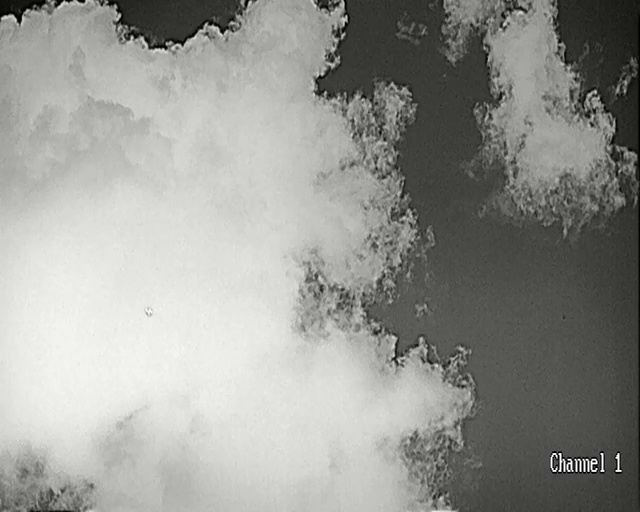uav: (145, 308, 152, 315)
